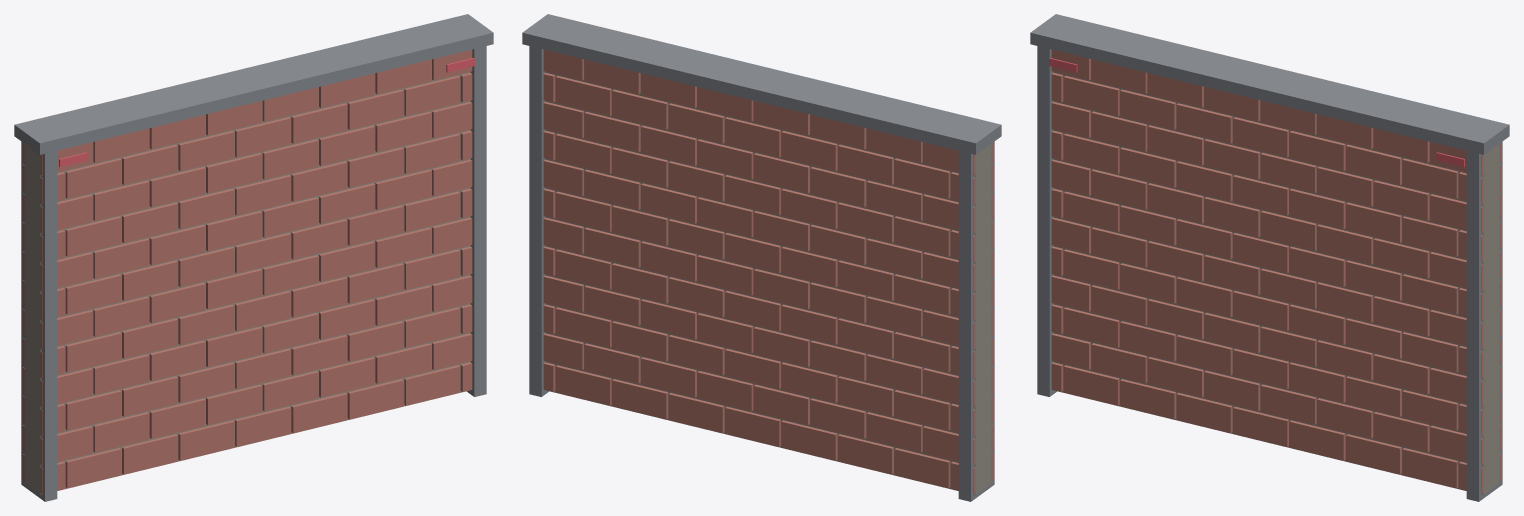
The model's file is BuildWall.glb.
The picture shows the model from 3 angles, left to right: view 1: azimuth 30°, elevation 25°; view 2: azimuth 150°, elevation 25°; view 3: azimuth 330°, elevation 25°; orthographic projection.
Visible parts, largest first — view 1: top_capping, mortar_core, steel_edge-1.94, steel_edge1.94, brick_8_-3_1, brick_6_1_1, brick_9_0_1, brick_4_2_1, brick_1_-1_1, brick_8_3_1, brick_7_-1_1, brick_5_0_1 (+82 smaller); view 2: top_capping, mortar_core, steel_edge-1.94, steel_edge1.94, brick_8_-3_-1, brick_6_1_-1, brick_9_0_-1, brick_4_2_-1, brick_1_-1_-1, brick_8_3_-1, brick_7_-1_-1, brick_5_0_-1 (+82 smaller); view 3: top_capping, mortar_core, steel_edge1.94, steel_edge-1.94, brick_8_3_1, brick_6_-1_1, brick_5_2_1, brick_5_-3_1, brick_4_-2_1, brick_9_2_1, brick_8_-3_1, brick_7_1_1 (+82 smaller).
Part boxes in pixels (x1,y1,x2,y2): top_capping: [14, 14, 493, 154]; mortar_core: [24, 59, 470, 494]; steel_edge-1.94: [21, 141, 57, 501]; steel_edge1.94: [467, 46, 486, 396]; brick_8_-3_1: [65, 216, 121, 256]; brick_6_1_1: [291, 219, 347, 259]; brick_9_0_1: [262, 139, 318, 179]; brick_4_2_1: [347, 263, 403, 303]; brick_1_-1_1: [206, 384, 262, 425]; brick_8_3_1: [404, 133, 460, 174]; brick_7_-1_1: [206, 211, 262, 251]; brick_5_0_1: [262, 255, 318, 295]; top_capping: [522, 14, 1001, 154]; mortar_core: [545, 59, 991, 494]; steel_edge-1.94: [958, 141, 994, 501]; steel_edge1.94: [529, 46, 548, 396]; brick_8_-3_-1: [894, 216, 950, 256]; brick_6_1_-1: [668, 219, 724, 259]; brick_9_0_-1: [697, 139, 753, 179]; brick_4_2_-1: [612, 263, 668, 303]; brick_1_-1_-1: [753, 384, 809, 425]; brick_8_3_-1: [555, 133, 611, 174]; brick_7_-1_-1: [753, 211, 809, 251]; brick_5_0_-1: [697, 255, 753, 295]; top_capping: [1030, 14, 1509, 154]; mortar_core: [1053, 59, 1499, 494]; steel_edge1.94: [1466, 141, 1502, 501]; steel_edge-1.94: [1037, 46, 1056, 396]; brick_8_3_1: [1402, 216, 1458, 256]; brick_6_-1_1: [1176, 219, 1232, 259]; brick_5_2_1: [1373, 296, 1429, 336]; brick_5_-3_1: [1091, 227, 1147, 267]; brick_4_-2_1: [1120, 263, 1176, 303]; brick_9_2_1: [1373, 180, 1429, 220]; brick_8_-3_1: [1063, 133, 1119, 174]; brick_7_1_1: [1317, 224, 1373, 264].
Bounding box in the file's own units: 4.1 × 3.11 × 0.409.
